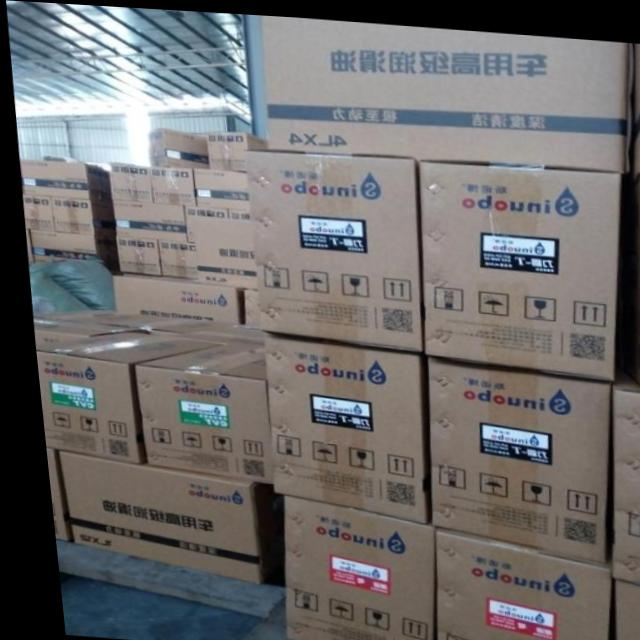box: (263, 12, 628, 165), (415, 156, 617, 374), (421, 355, 601, 555), (241, 146, 416, 347), (255, 330, 420, 518), (48, 448, 273, 580), (28, 328, 219, 462), (272, 492, 423, 640), (423, 521, 600, 640), (127, 341, 261, 479), (600, 364, 640, 581), (106, 270, 234, 321), (613, 164, 640, 385), (191, 203, 251, 285), (25, 228, 109, 271), (16, 160, 105, 199), (26, 314, 134, 345), (140, 316, 256, 342), (26, 309, 184, 328), (108, 197, 179, 238), (601, 572, 640, 640), (47, 195, 110, 234), (203, 128, 263, 168), (190, 166, 245, 207), (145, 128, 205, 164), (36, 446, 59, 539), (625, 35, 640, 172), (109, 233, 154, 273), (146, 166, 191, 203), (105, 163, 149, 200), (151, 237, 193, 275), (18, 194, 48, 230), (236, 284, 252, 324), (179, 203, 193, 240)
